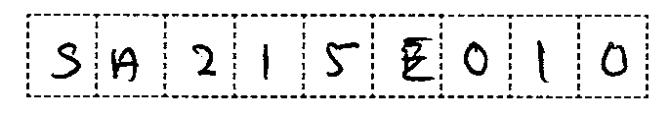0: (457, 36, 492, 84), (595, 37, 631, 83)
1: (245, 36, 285, 86), (525, 35, 558, 89)
2: (188, 40, 221, 82)
5: (321, 35, 361, 81)
A: (106, 40, 143, 88)
E: (396, 30, 438, 85)
S: (48, 37, 85, 82)
